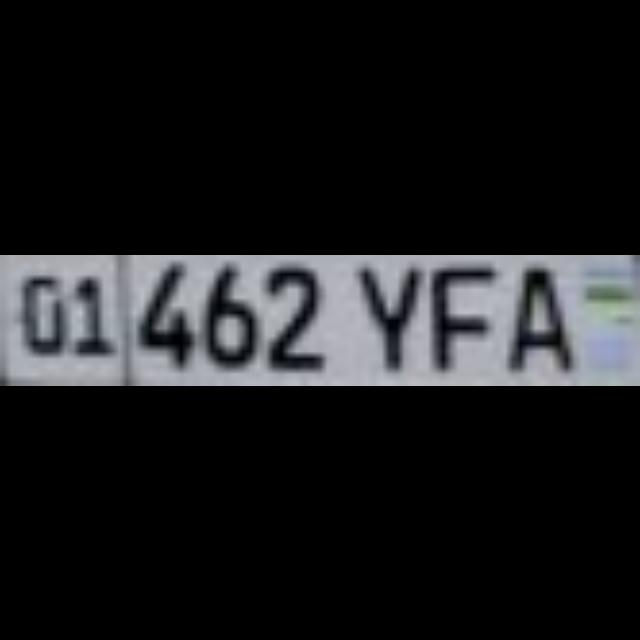0: (8, 270, 62, 346)
1: (62, 262, 108, 346)
2: (254, 254, 316, 362)
4: (131, 254, 185, 354)
6: (193, 254, 255, 362)
A: (494, 254, 570, 362)
F: (424, 254, 494, 362)
Y: (348, 254, 417, 362)
